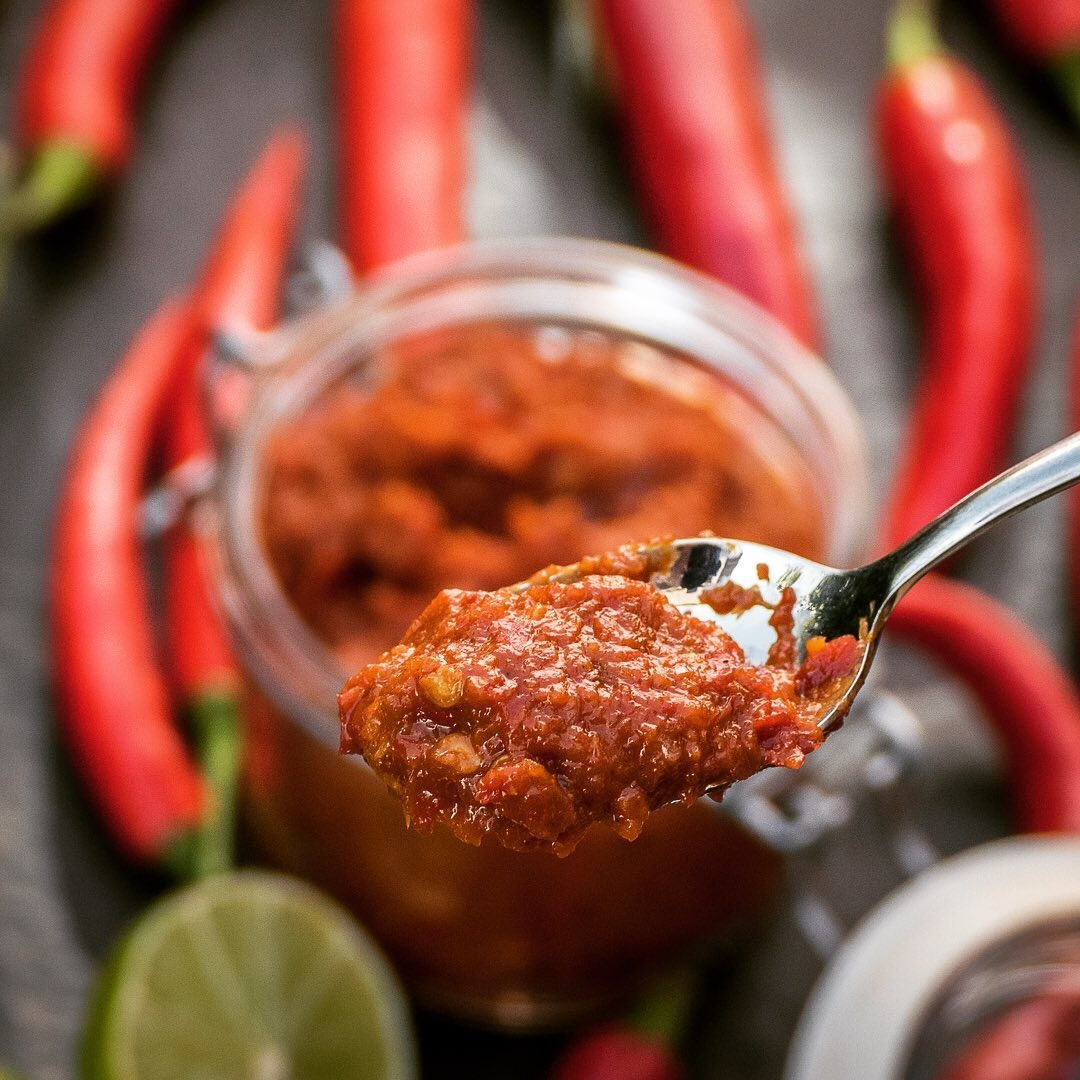sambal: (306, 569, 836, 815)
